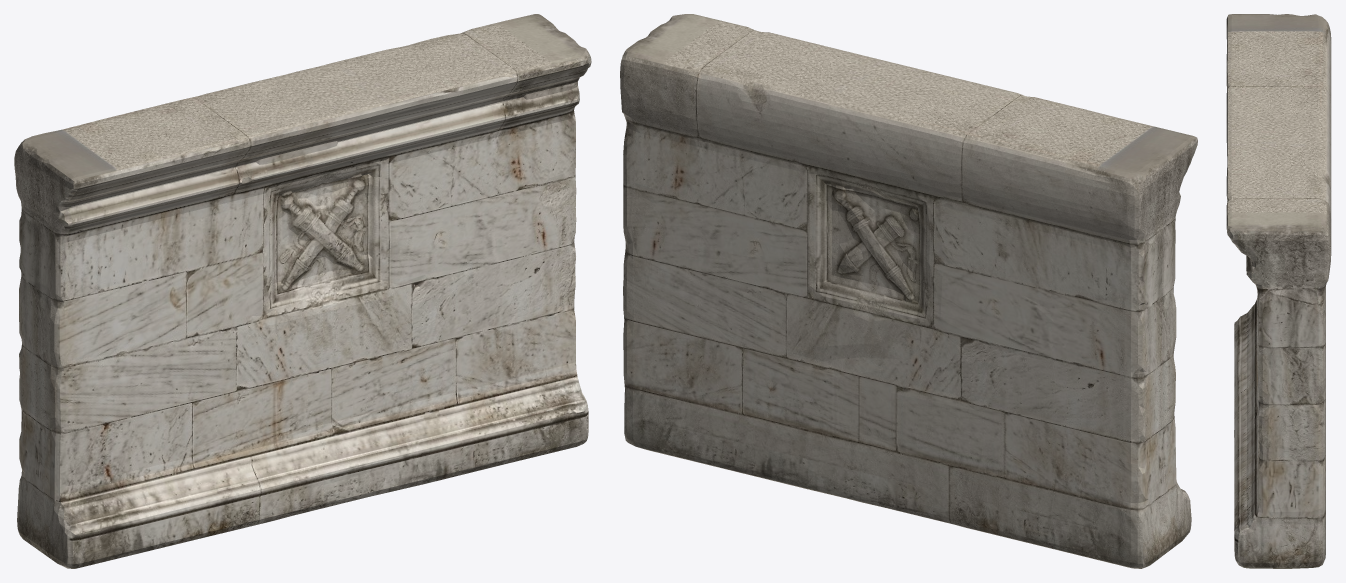
Rendered from podium.glb.
3 views of the same model, side by side, from view 1: azimuth 30°, elevation 25°; view 2: azimuth 150°, elevation 25°; view 3: azimuth 270°, elevation 25° (orthographic). The views are drawn at different scales.
Parts seen in each view (by area): view 1: lo; view 2: lo; view 3: lo.
Boxes of the visible parts, x1,y1,x2,y2 form: lo: [14, 14, 591, 568]; lo: [620, 14, 1197, 568]; lo: [1226, 14, 1331, 568].
Size of the model in its own units: 4.49 by 3.25 by 0.907.
1 material, 1 textured.
